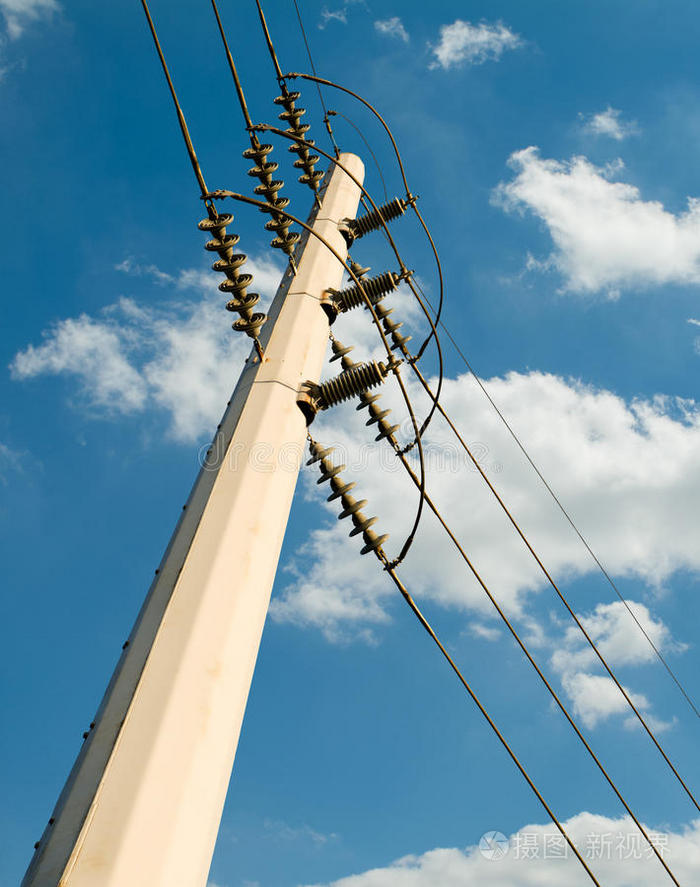insulator: (308, 441, 390, 558), (199, 208, 268, 335), (330, 334, 399, 443), (242, 143, 303, 253), (353, 262, 411, 353), (280, 89, 324, 185)
